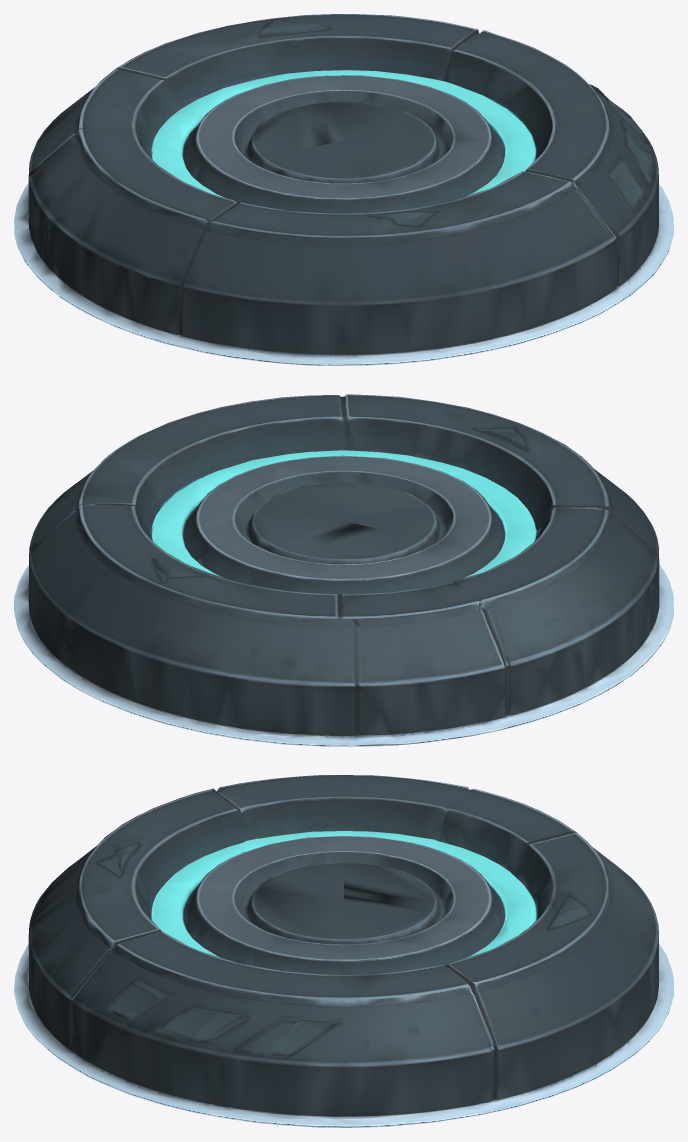
File: PressurePlate.fbx
The picture shows the model from 3 angles, top to bottom: view 1: azimuth 30°, elevation 25°; view 2: azimuth 150°, elevation 25°; view 3: azimuth 270°, elevation 25°; orthographic projection.
Parts seen in each view (by area): view 1: tripo_node_03a084b7; view 2: tripo_node_03a084b7; view 3: tripo_node_03a084b7.
Boxes of the visible parts, x1,y1,x2,y2 form: tripo_node_03a084b7: [14, 14, 673, 365]; tripo_node_03a084b7: [14, 394, 673, 746]; tripo_node_03a084b7: [14, 775, 673, 1127].
Size of the model in its own units: 1 by 0.1847 by 0.9973.
Materials: 1 (1 with a texture image).
